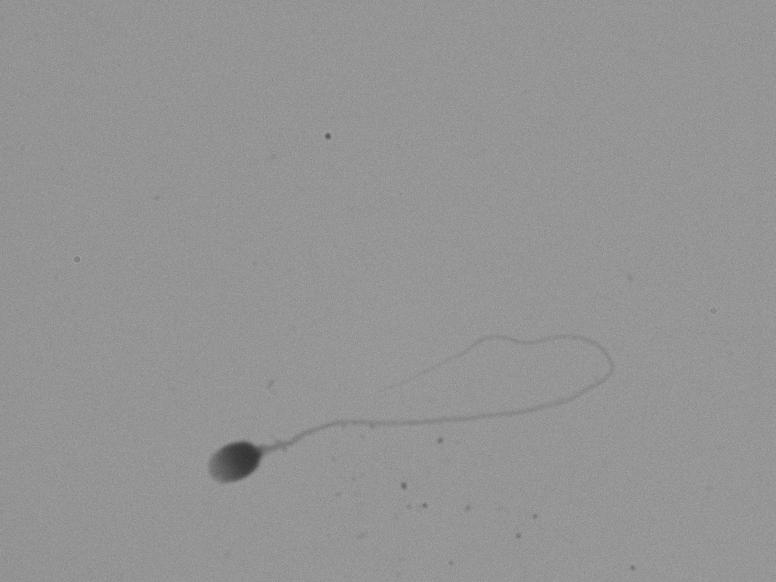Normal: (147, 307, 609, 530)
